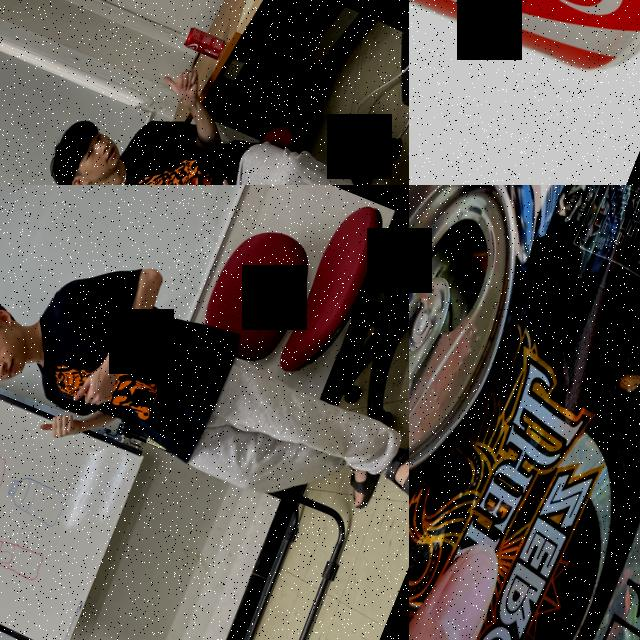can: (409, 0, 640, 99), (182, 24, 228, 60)
